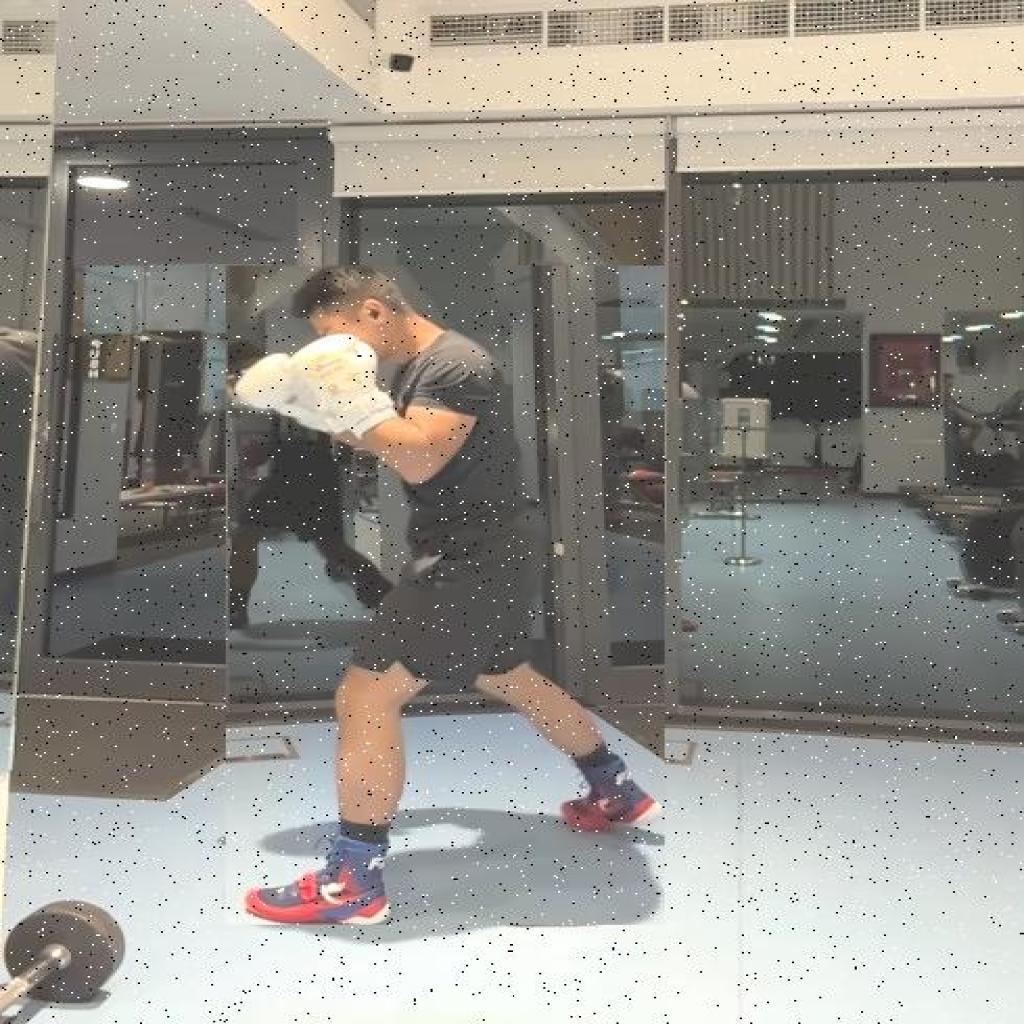no punch: (226, 266, 664, 926)
